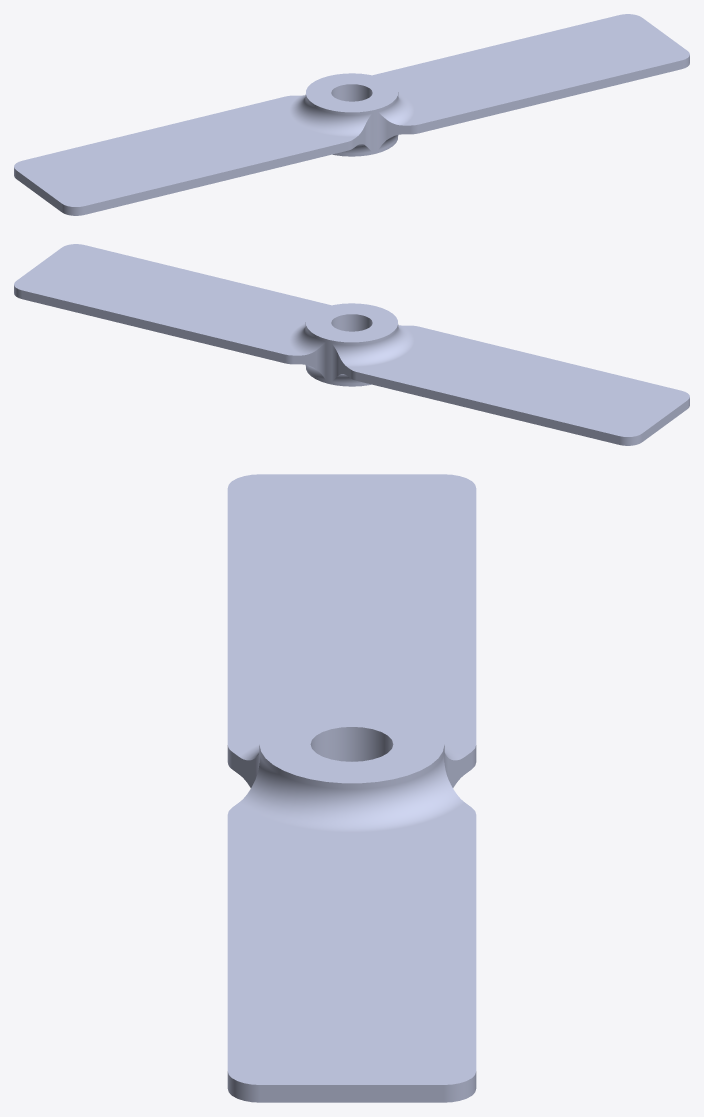
The model's file is prop.dae.
3 renders of one model, top to bottom at view 1: azimuth 30°, elevation 25°; view 2: azimuth 150°, elevation 25°; view 3: azimuth 270°, elevation 25°, orthographic. The views are drawn at different scales.
Parts seen in each view (by area): view 1: GemFan 3545 Propeller; view 2: GemFan 3545 Propeller; view 3: GemFan 3545 Propeller.
Part boxes in pixels (bbox=[...]): GemFan 3545 Propeller: bbox=[14, 14, 689, 215]; GemFan 3545 Propeller: bbox=[14, 244, 689, 445]; GemFan 3545 Propeller: bbox=[227, 474, 476, 1102].
Bounding box in the file's own units: 0.089 × 0.0153 × 0.006.
